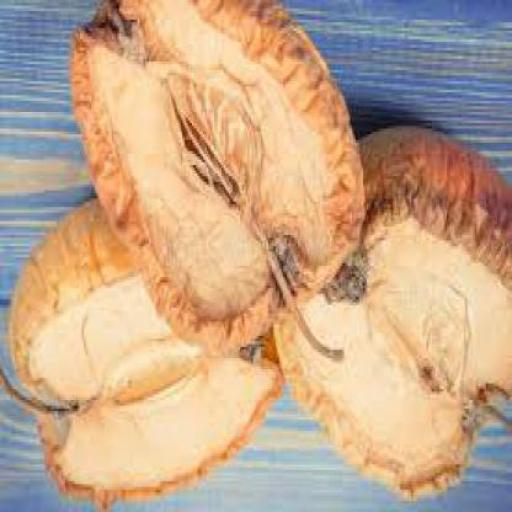biodegradable: (67, 3, 363, 364), (270, 130, 510, 504), (0, 199, 283, 511)
